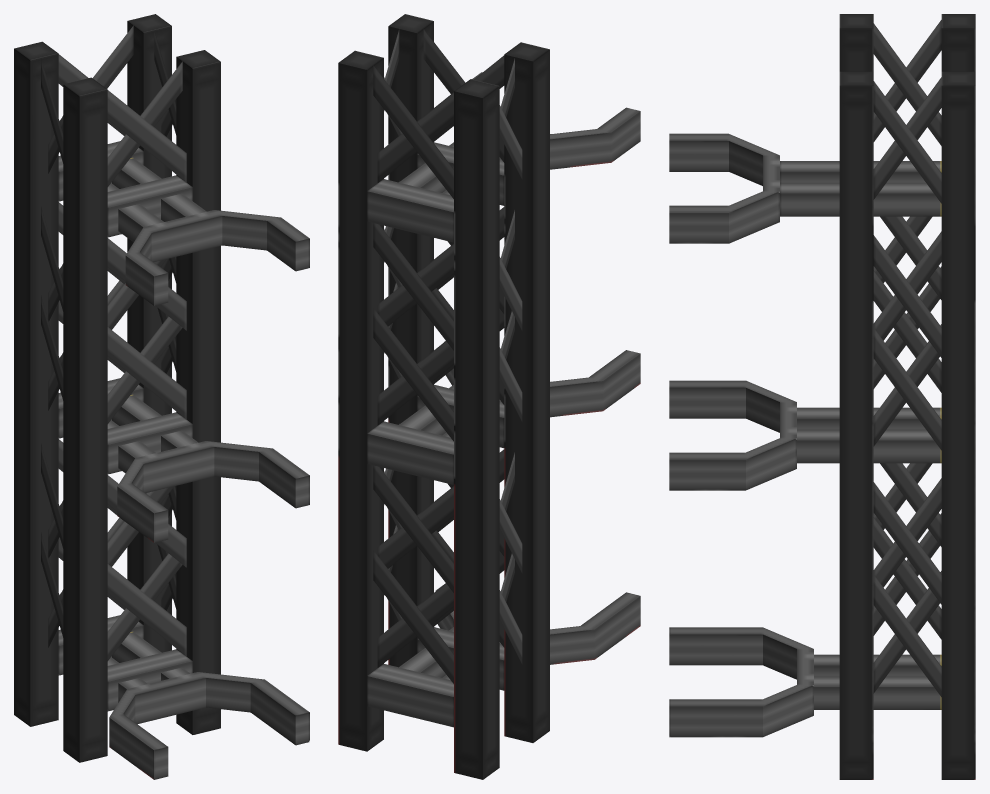
Rendered from atlas_erector.obj.
3 views of the same model, side by side, from view 1: azimuth 30°, elevation 25°; view 2: azimuth 150°, elevation 25°; view 3: azimuth 270°, elevation 25° (orthographic). The views are drawn at different scales.
Visible parts, largest first — view 1: atlas_erector; view 2: atlas_erector; view 3: atlas_erector.
Part boxes in pixels (x1,y1,x2,y2): atlas_erector: (14,14,309,779); atlas_erector: (338,14,640,779); atlas_erector: (669,14,975,779).
Size of the model in its own units: 2.75 by 11.25 by 4.5.
